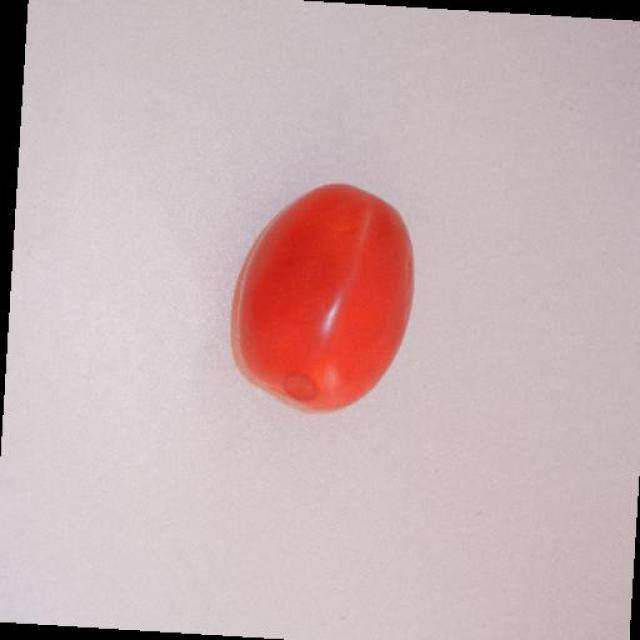Stale_tomato: (225, 168, 419, 447)
